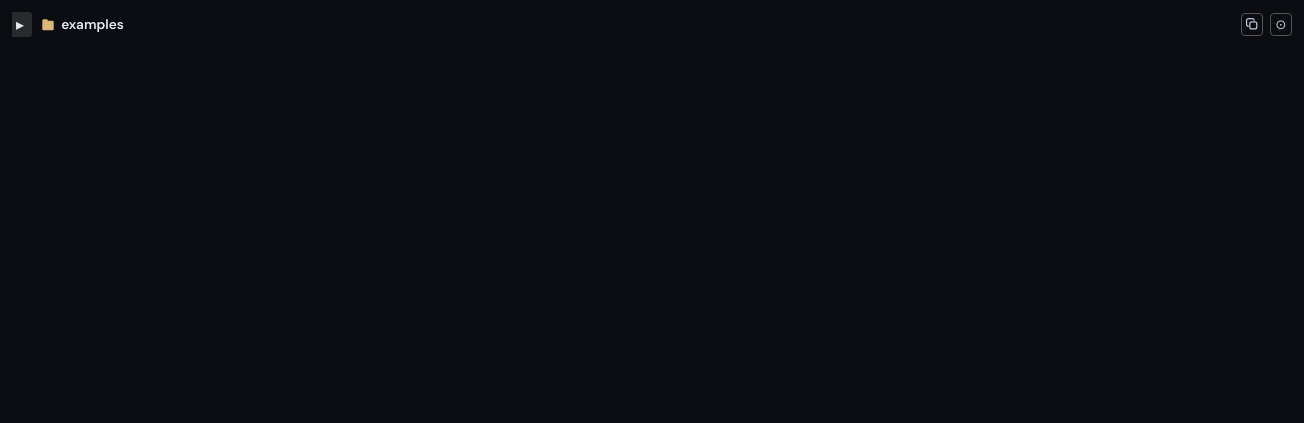
Test: TreeNode › expands multiple siblings simultaneously without collapsing each other (FR-003)
Click the button "examples" at x=82, y=24, box [34,12,130,37]
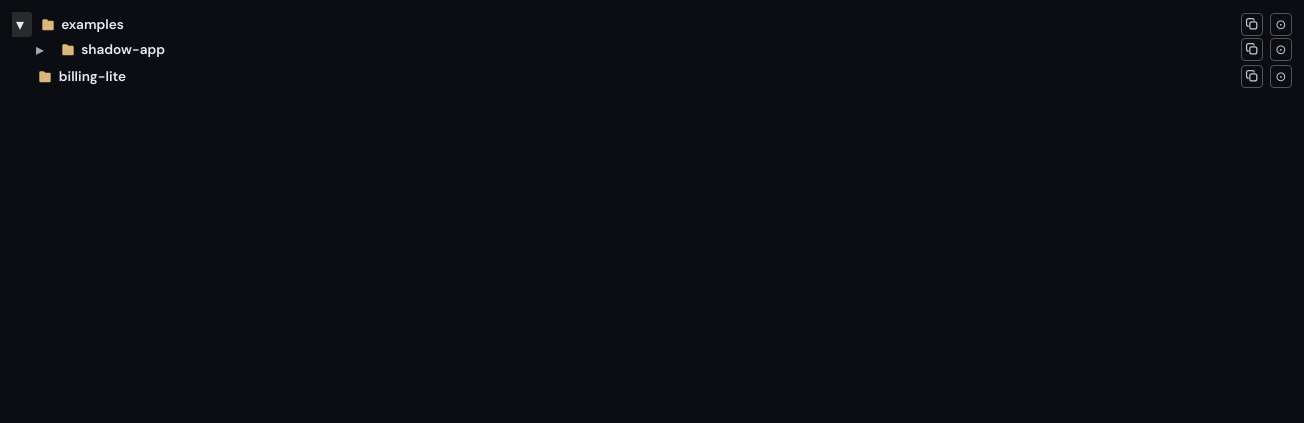
Expected: the text "shadow-app" is shown, [81,41,165,58]
Click the button "shadow-app" at x=113, y=50, box [54,37,171,62]
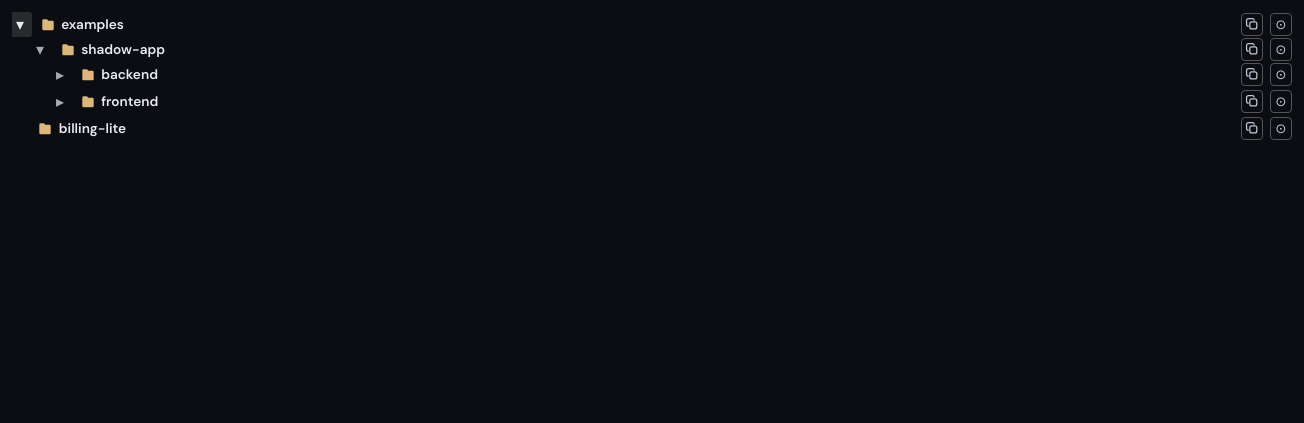
Expected: the text "backend" is shown, [101,66,158,83]
Click the button "backend" at x=119, y=74, box [74,62,164,87]
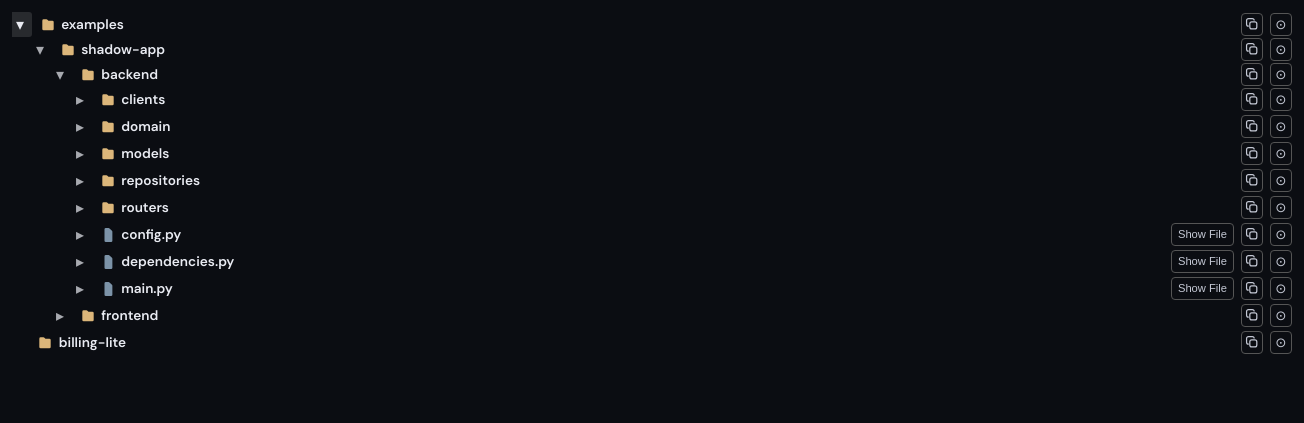
Expected: the text "frontend" is shown, [101,307,158,324]
Expected: the text "clients" is shown, [121,91,165,108]
Click the button "clients" at x=133, y=100, box [101,91,165,108]
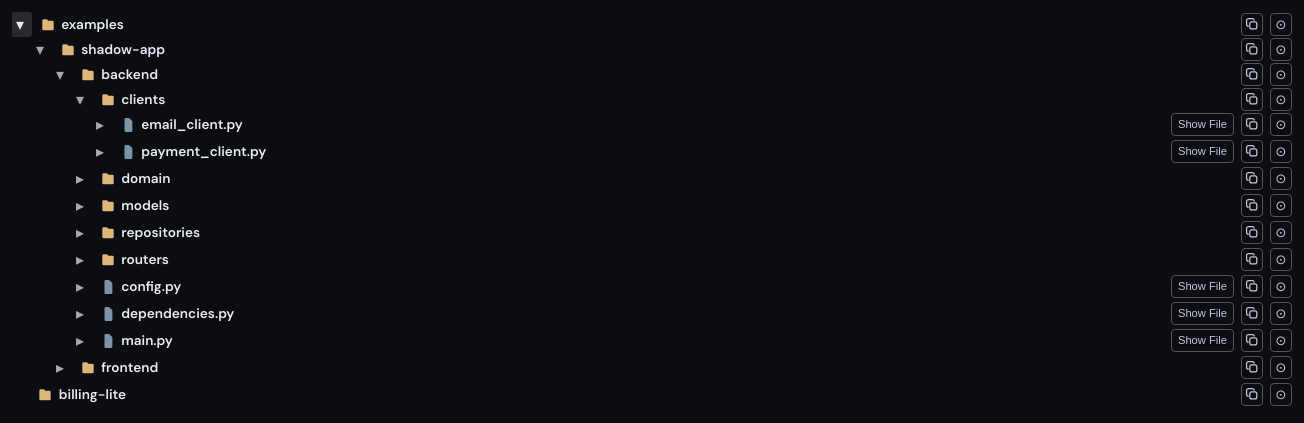
Expected: the text "email_client.py" is shown, [141,116,243,133]
